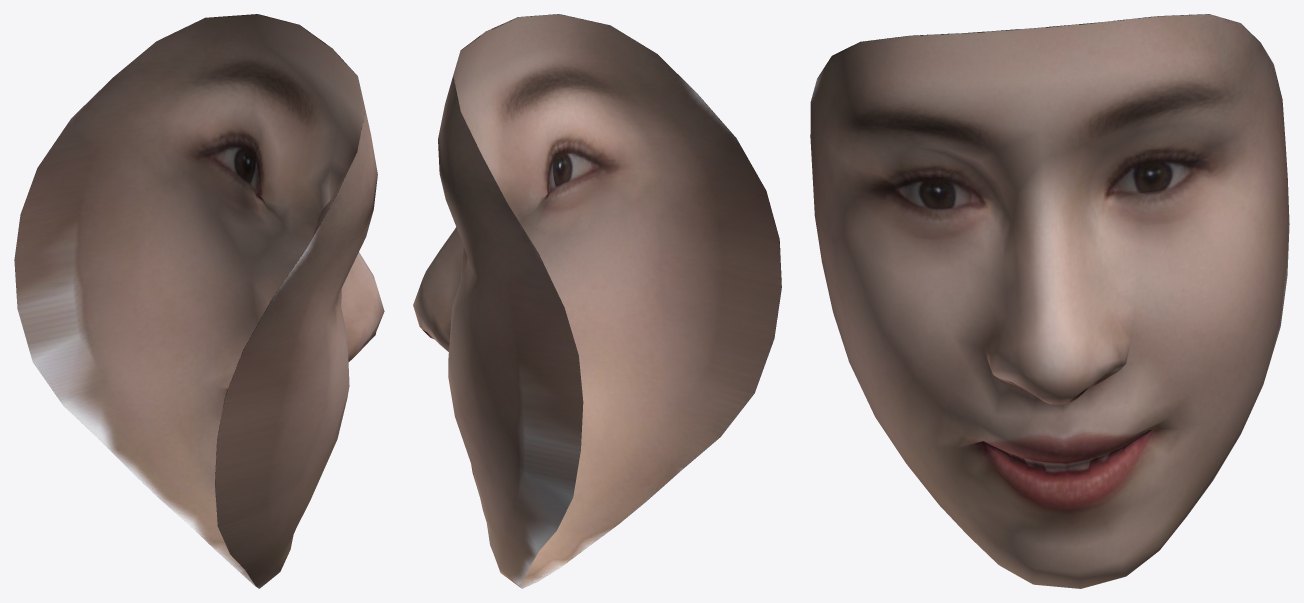
Rendered from xiaohongshu_fashion.glb.
The picture shows the model from 3 angles, left to right: view 1: azimuth 30°, elevation 25°; view 2: azimuth 150°, elevation 25°; view 3: azimuth 270°, elevation 25°; orthographic projection. The views are drawn at different scales.
Visible parts, largest first — view 1: xiaohongshu_fashion; view 2: xiaohongshu_fashion; view 3: xiaohongshu_fashion.
Boxes of the visible parts, bbox=[...] form: xiaohongshu_fashion: bbox=[14, 14, 384, 588]; xiaohongshu_fashion: bbox=[413, 14, 781, 588]; xiaohongshu_fashion: bbox=[810, 14, 1289, 588].
Bounding box in the file's own units: 0.4338 × 0.8245 × 0.5913.
1 material, 1 textured.
